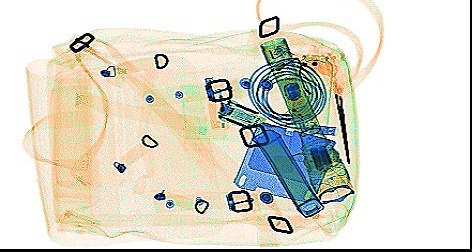lighter: (203, 74, 227, 127)
pressure: (284, 52, 333, 161)
scissors: (319, 45, 352, 166)
zippooil: (250, 127, 323, 217)
